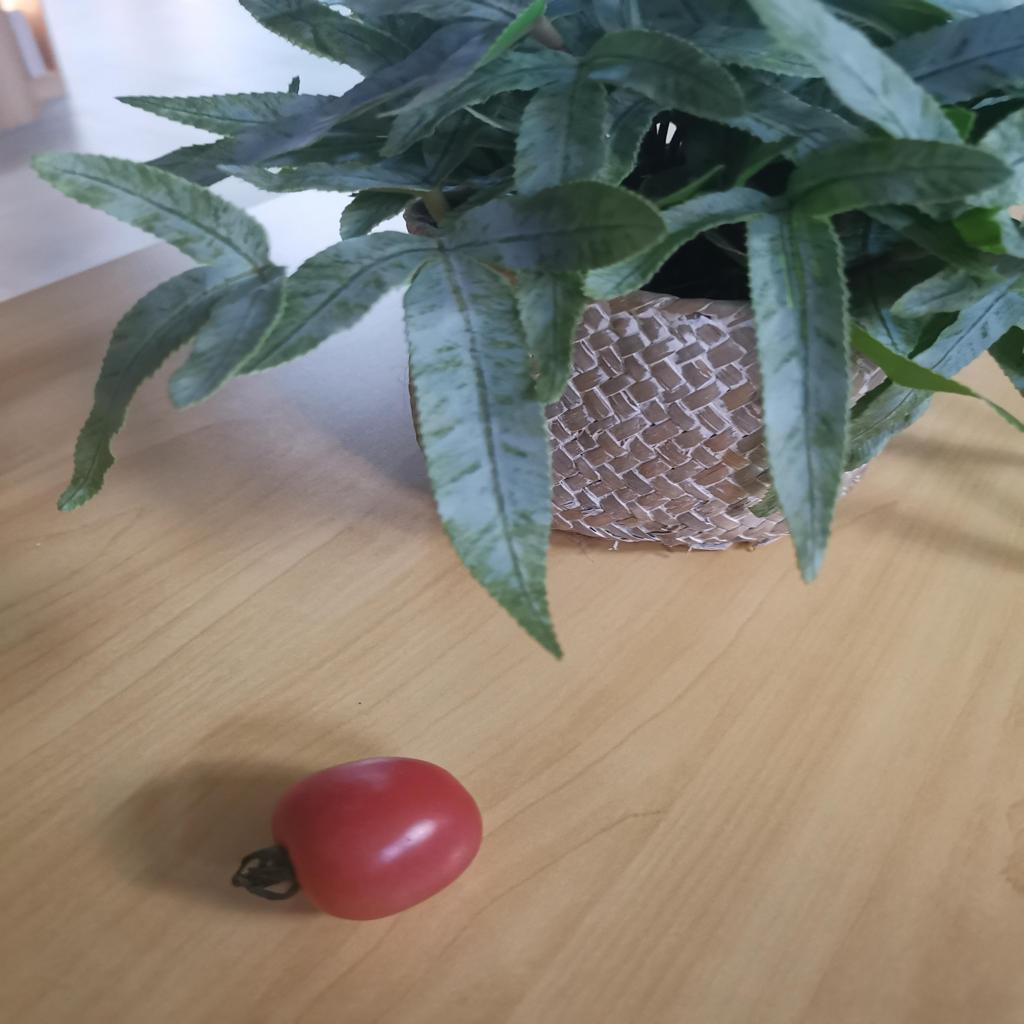tomato: (257, 766, 485, 918)
